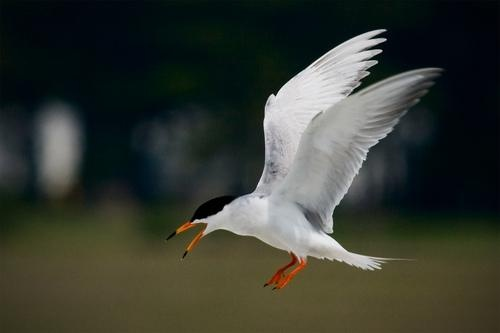bird: (159, 27, 441, 292)
